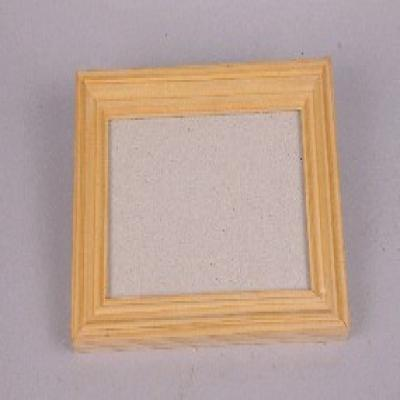technique: (70, 57, 351, 349)
